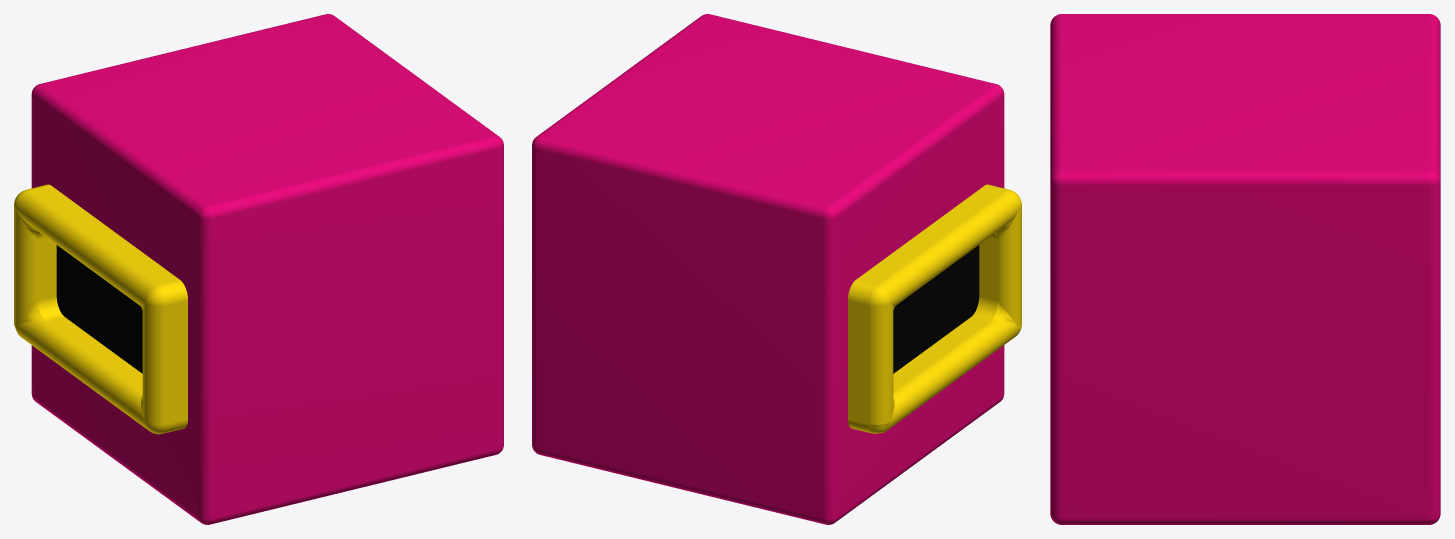
Rendered from rod_cannon.fbx.
The picture shows the model from 3 angles, left to right: view 1: azimuth 30°, elevation 25°; view 2: azimuth 150°, elevation 25°; view 3: azimuth 270°, elevation 25°; orthographic projection. The views are drawn at different scales.
Parts seen in each view (by area): view 1: base, cannon, BlackPrint; view 2: base, cannon, BlackPrint; view 3: base.
Boxes of the visible parts, box(x1,y1,x2,y2) form: base: box(31, 14, 503, 524); cannon: box(14, 184, 187, 434); BlackPrint: box(56, 245, 142, 373); base: box(532, 14, 1004, 524); cannon: box(848, 184, 1021, 433); BlackPrint: box(893, 245, 979, 373); base: box(1050, 14, 1440, 524).
Size of the model in its own units: 223 by 200 by 200.
